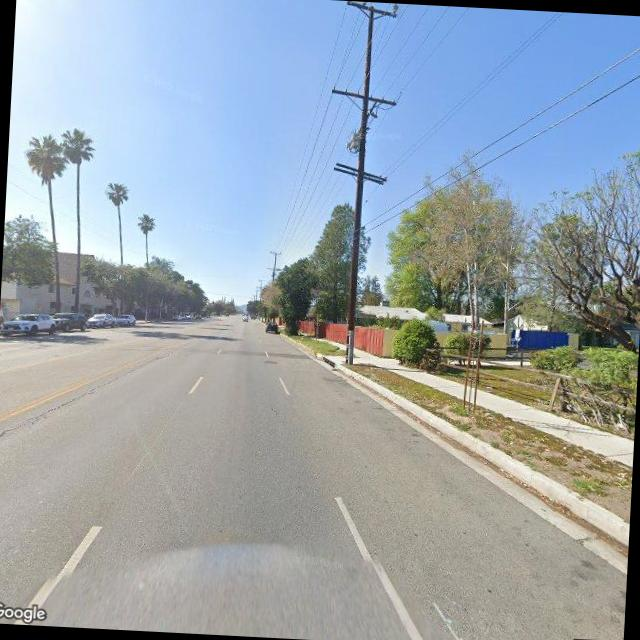pothole: (2, 338, 184, 448)
